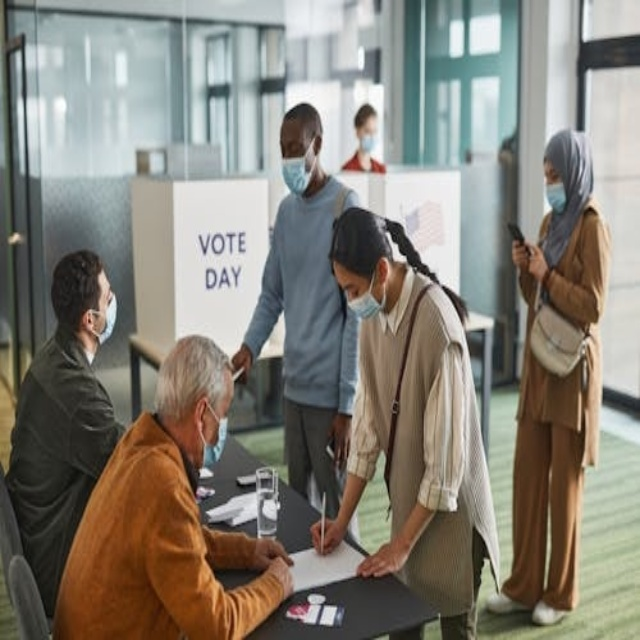Mascara: (347, 264, 385, 320), (281, 142, 317, 196), (201, 404, 228, 468), (92, 295, 118, 345), (545, 181, 567, 213), (359, 133, 376, 153)
Sin_gafas: (337, 273, 364, 302)
Sin_guantes: (327, 412, 353, 468), (229, 345, 251, 384), (512, 239, 534, 274)
